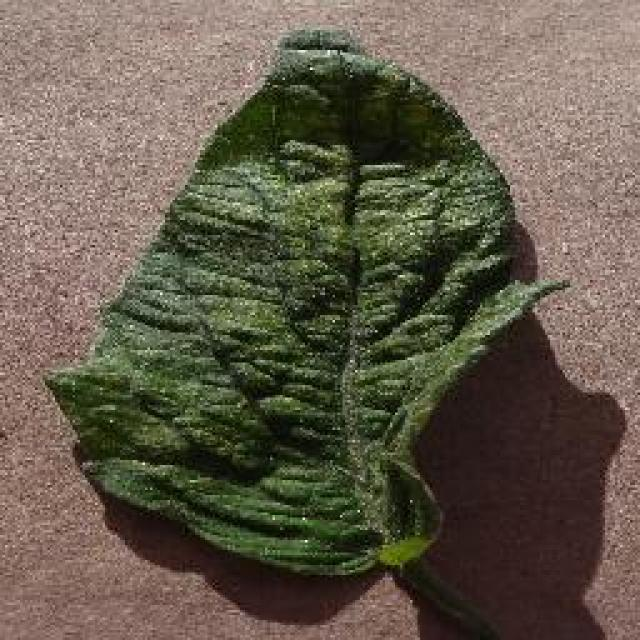Tomato mosaic virus leaf: (49, 28, 576, 578)
